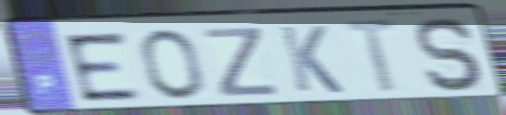E: (60, 29, 146, 105)
K: (276, 23, 347, 96)
O: (138, 27, 208, 102)
S: (414, 16, 489, 94)
T: (340, 17, 406, 98)
Z: (200, 25, 282, 100)
